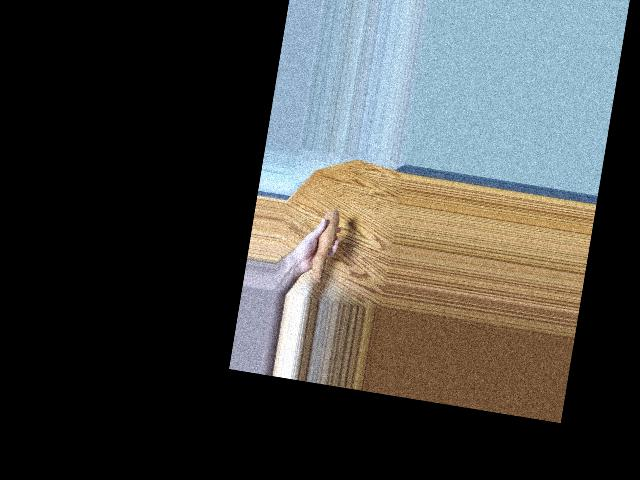sweet_potato: (305, 202, 341, 286)
